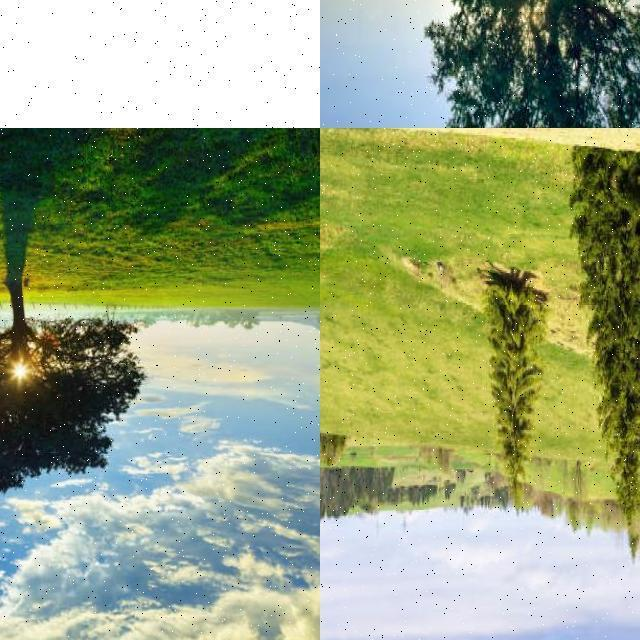tree: (13, 0, 320, 128), (0, 252, 140, 516), (422, 0, 640, 128), (576, 132, 640, 536), (470, 257, 550, 493), (320, 0, 346, 44)
